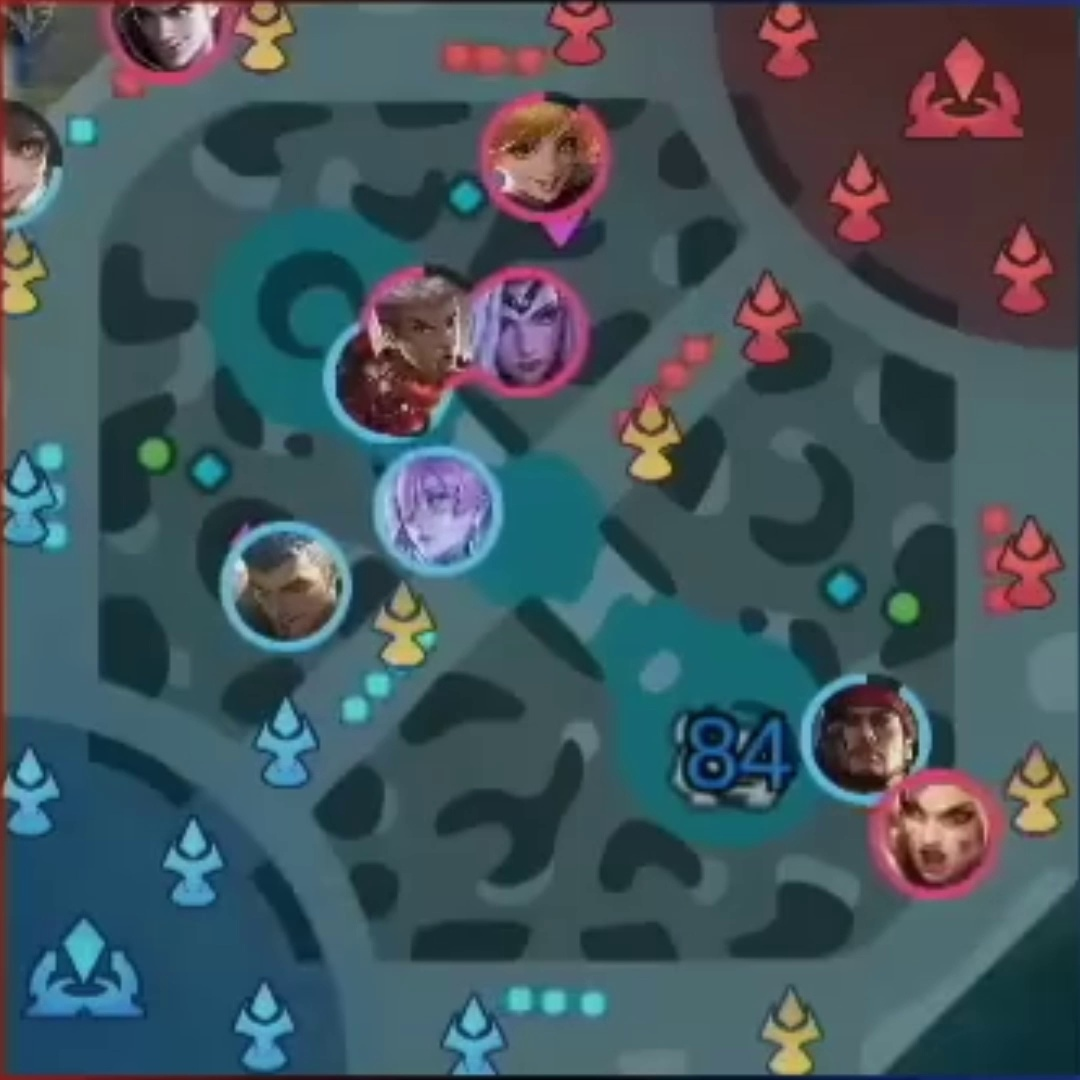Chou: (382, 282, 466, 366)
Claude: (129, 1, 208, 67)
Fanny: (500, 113, 586, 203)
Fredrinn: (243, 539, 329, 641)
Lapu-Lapu: (825, 689, 911, 784)
Masha: (897, 791, 978, 879)
Minotaur: (343, 349, 420, 427)
Novaria: (394, 466, 484, 556)
Valentina: (482, 289, 563, 379)
Wanwan: (7, 110, 50, 218)
